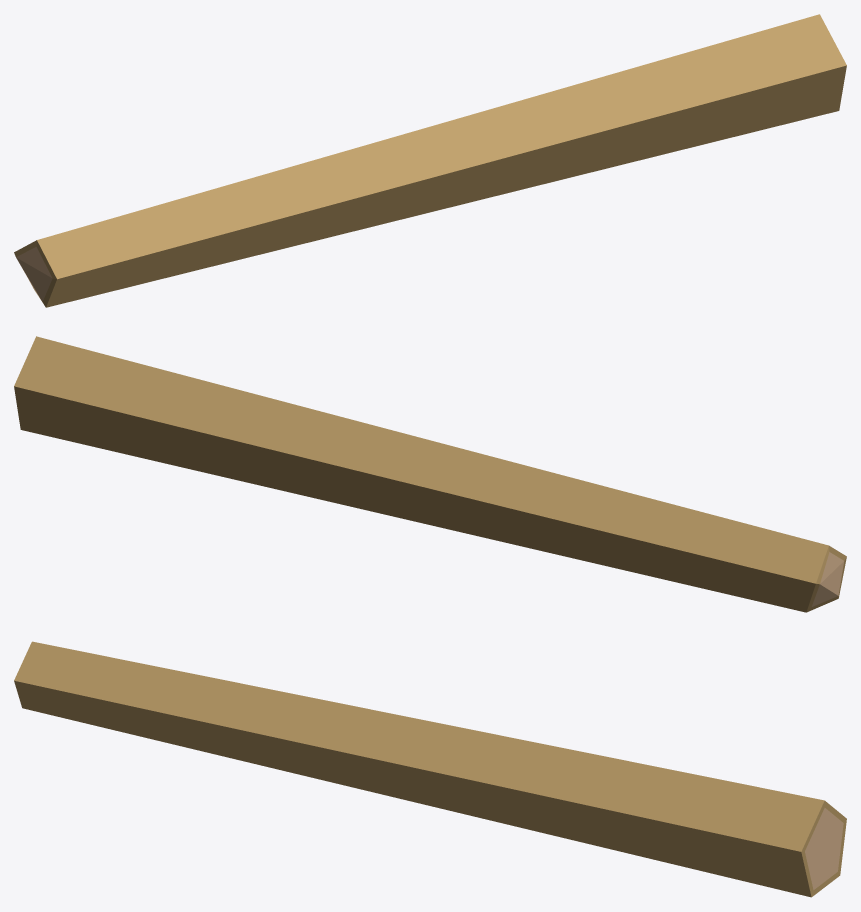
The model's file is Oak_Log_03_LOD.fbx.
The picture shows the model from 3 angles, top to bottom: view 1: azimuth 30°, elevation 25°; view 2: azimuth 150°, elevation 25°; view 3: azimuth 330°, elevation 25°; orthographic projection.
Visible parts, largest first — view 1: Oak_Log_03_LOD0; view 2: Oak_Log_03_LOD0; view 3: Oak_Log_03_LOD0.
Part boxes in pixels (bbox=[...]): Oak_Log_03_LOD0: bbox=[14, 14, 846, 307]; Oak_Log_03_LOD0: bbox=[14, 336, 846, 612]; Oak_Log_03_LOD0: bbox=[14, 641, 846, 897].
Size of what is drawn, in the model's own units: 390 by 40.04 by 42.92.
